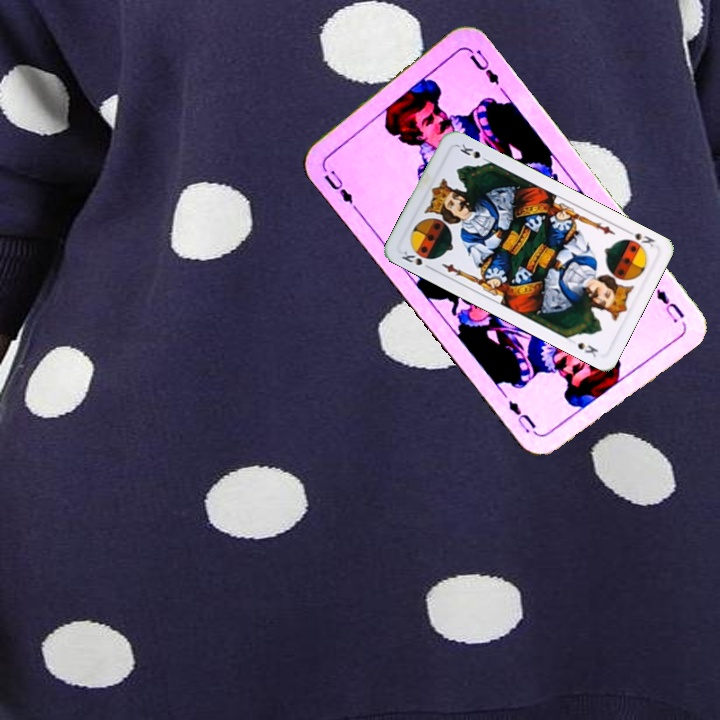EU: (318, 162, 356, 207), (652, 285, 687, 326)
SK: (397, 245, 435, 272), (620, 225, 658, 252)
